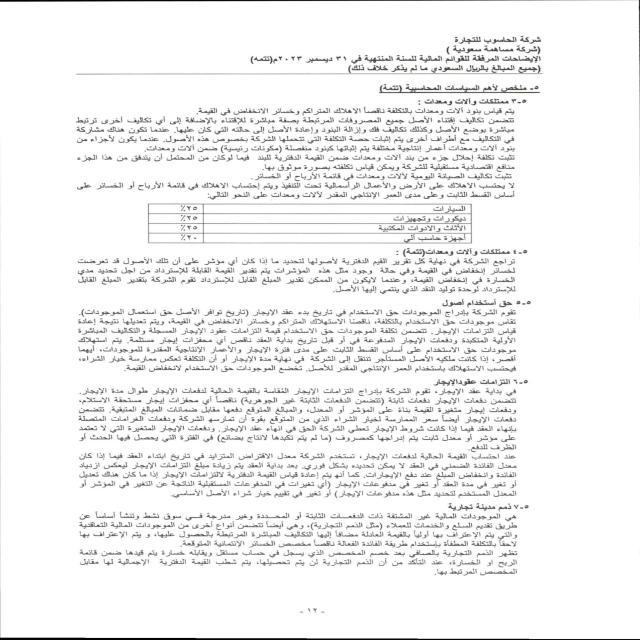notes: (416, 54, 546, 64)
text: (40, 80, 544, 592)
